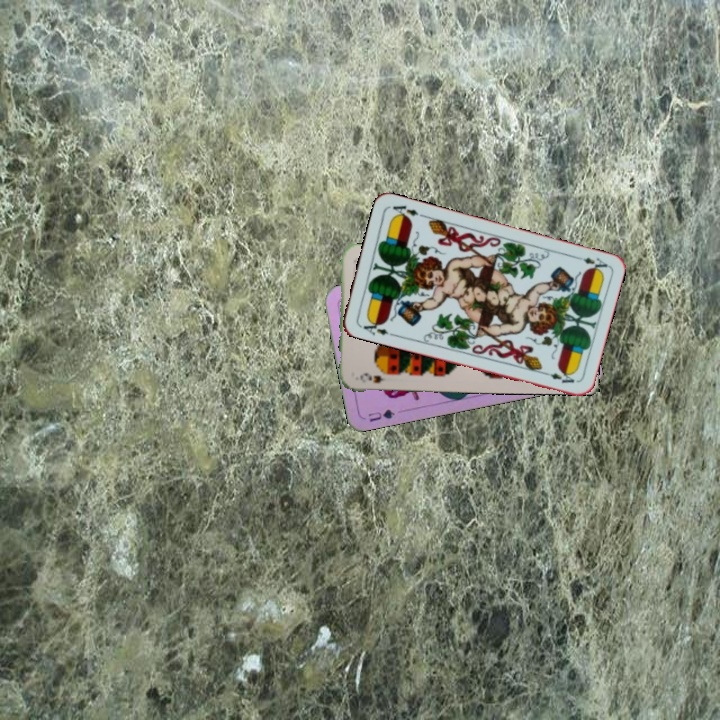EA: (356, 315, 396, 338), (570, 252, 610, 274)
GU: (364, 405, 398, 425)
S9: (356, 369, 388, 385)
